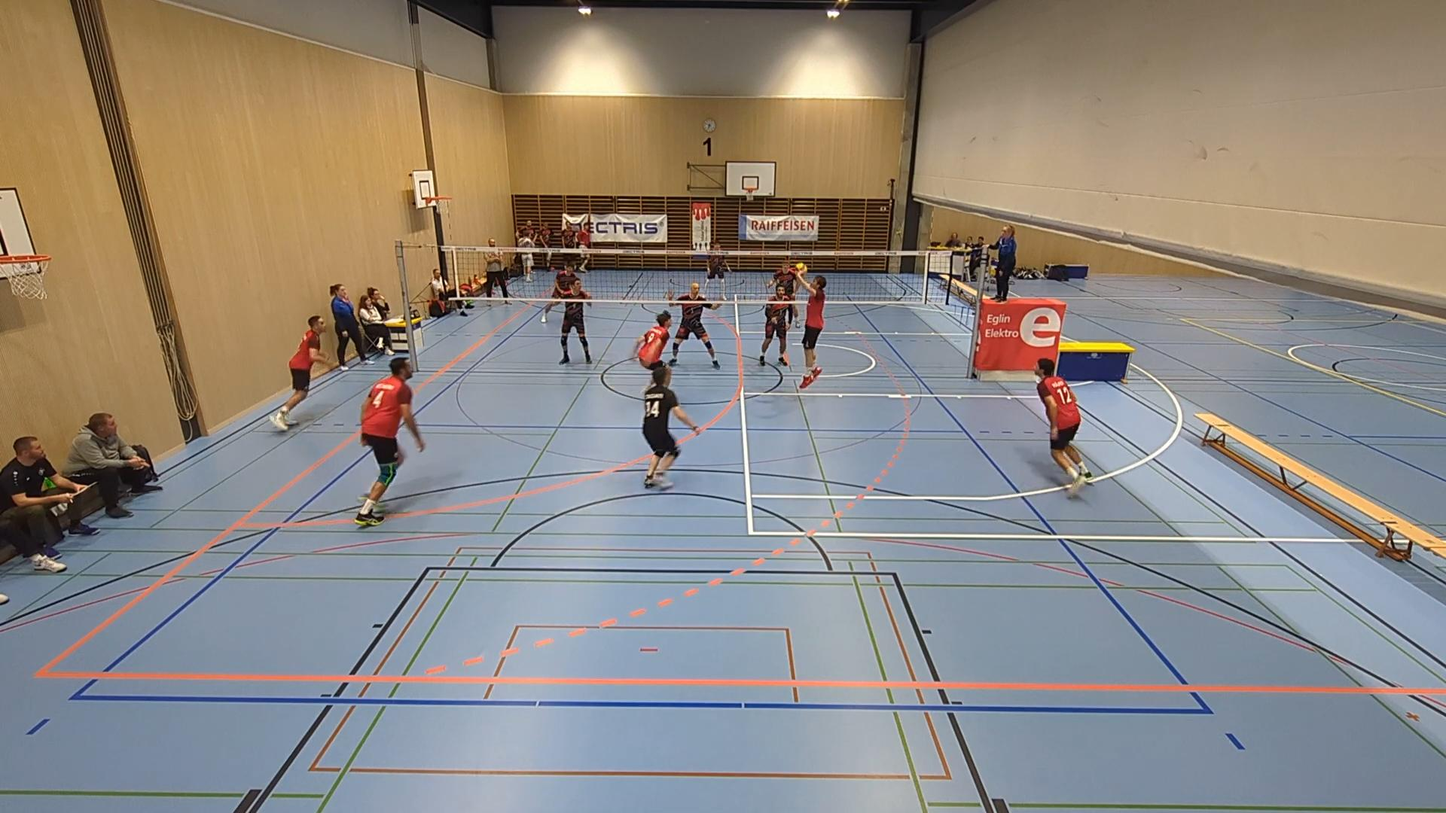alzata: (792, 267, 832, 376)
difesa: (794, 260, 809, 277)
